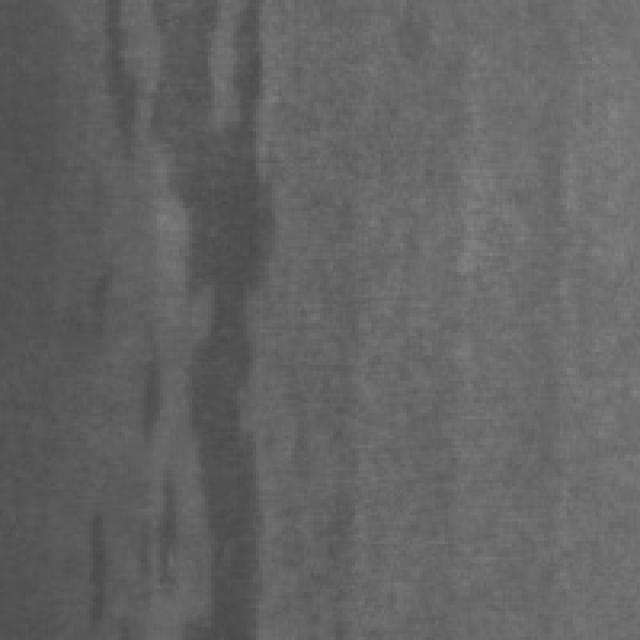inclusion: (144, 0, 269, 627), (80, 0, 144, 160)
